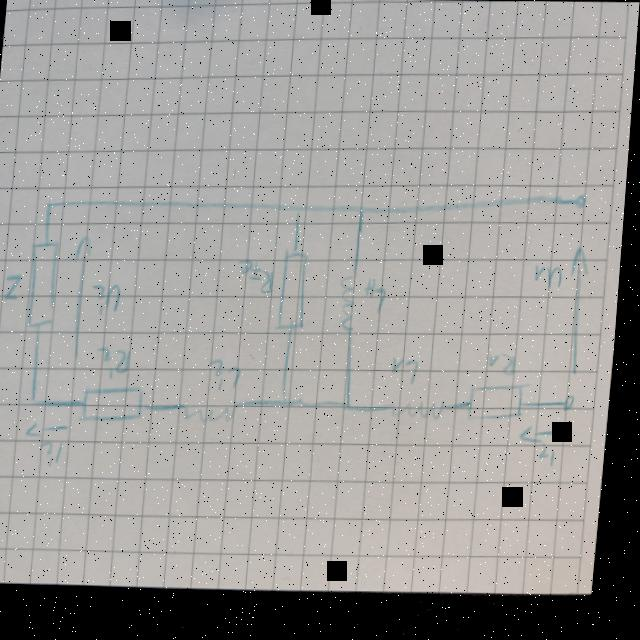inductor: (339, 272, 363, 332), (393, 397, 452, 420), (187, 400, 241, 423)
junction: (43, 197, 60, 215), (345, 394, 361, 412), (284, 395, 300, 413), (356, 202, 372, 220), (293, 201, 309, 219), (32, 390, 48, 408)
resistor: (27, 238, 66, 329), (278, 250, 313, 331), (83, 385, 150, 422), (469, 383, 530, 422)
terminal: (571, 191, 589, 210), (562, 394, 581, 412)
text: (238, 257, 279, 295), (210, 356, 247, 393), (99, 344, 137, 379), (93, 280, 126, 315), (365, 277, 392, 315), (489, 349, 522, 378), (394, 355, 424, 385), (535, 262, 567, 290), (44, 439, 68, 468), (543, 441, 562, 467), (7, 272, 25, 299)
